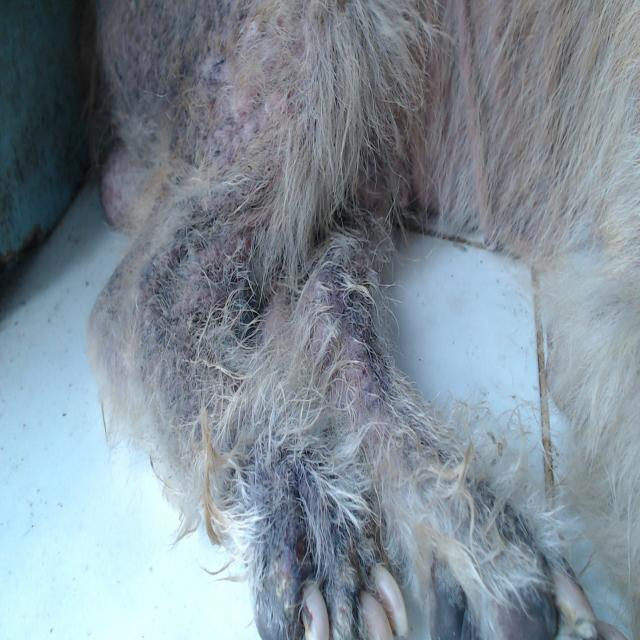demodicosis: (151, 232, 249, 469), (113, 0, 253, 146), (297, 276, 383, 414)
